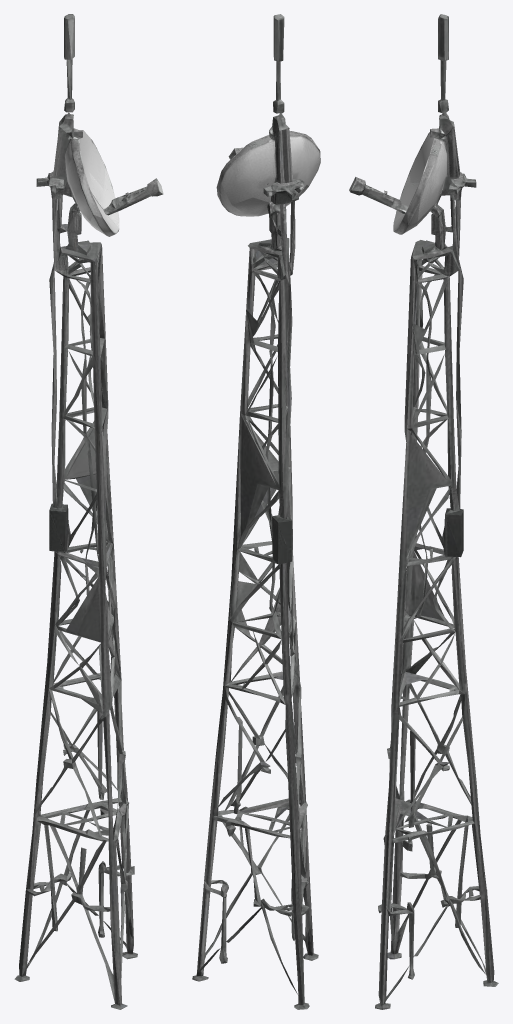
File: mast.glb
3 views of the same model, side by side, from view 1: azimuth 90°, elevation 25°; view 2: azimuth 210°, elevation 25°; view 3: azimuth 270°, elevation 25° (orthographic).
Parts seen in each view (by area): view 1: mesh_node; view 2: mesh_node; view 3: mesh_node.
Part boxes in pixels (x1=…): mesh_node: x1=14, y1=14, x2=163, y2=1009; mesh_node: x1=192, y1=14, x2=320, y2=1009; mesh_node: x1=349, y1=14, x2=498, y2=1009.
Size of the model in its own units: 0.2451 by 1.9 by 0.2667.
Materials: 1 (1 with a texture image).
